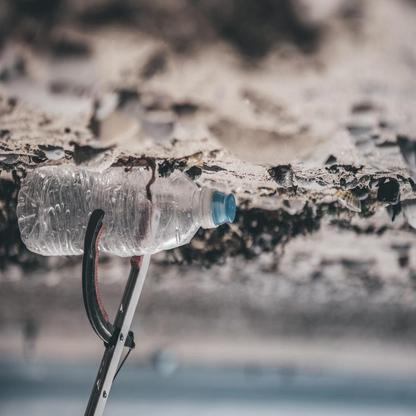plastic bottle: (16, 165, 238, 257)
